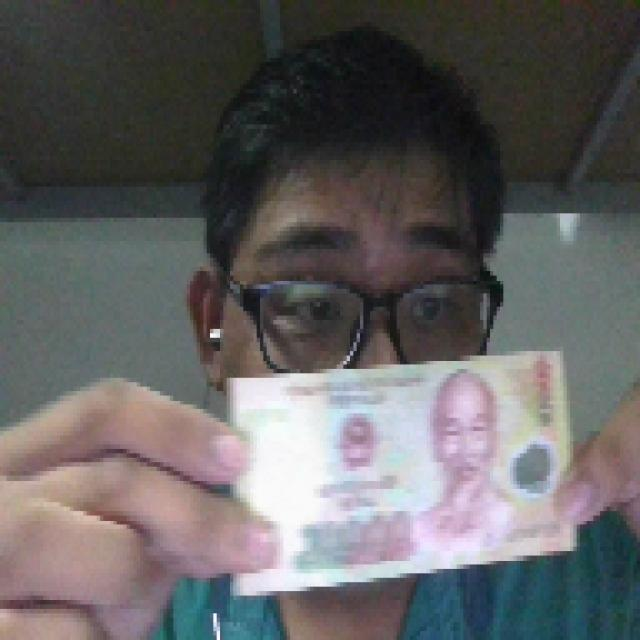10 000 VND: (220, 342, 580, 596)
